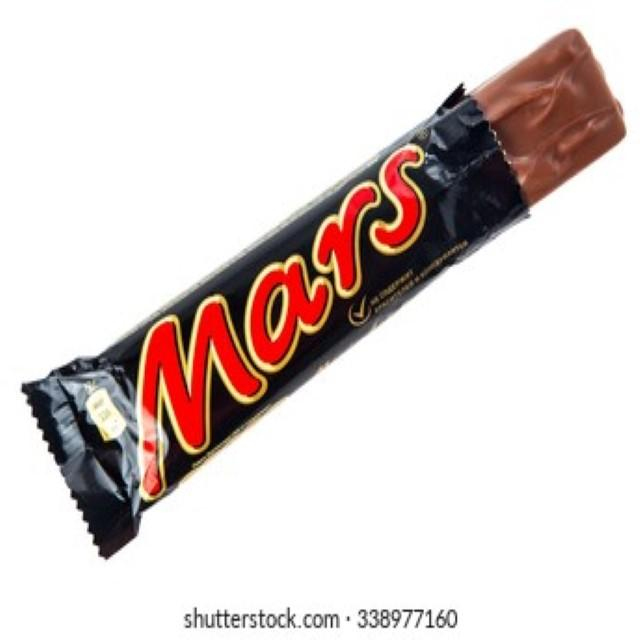mars_chocolate: (46, 135, 472, 573)
